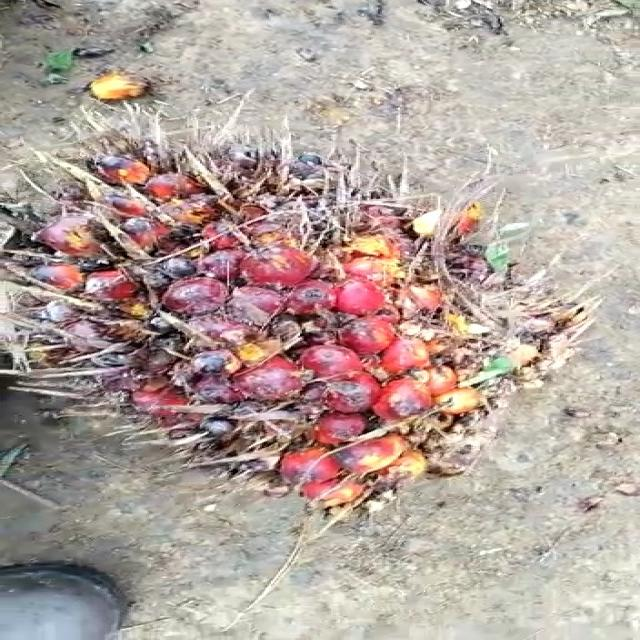palm oil: (0, 138, 566, 530)
